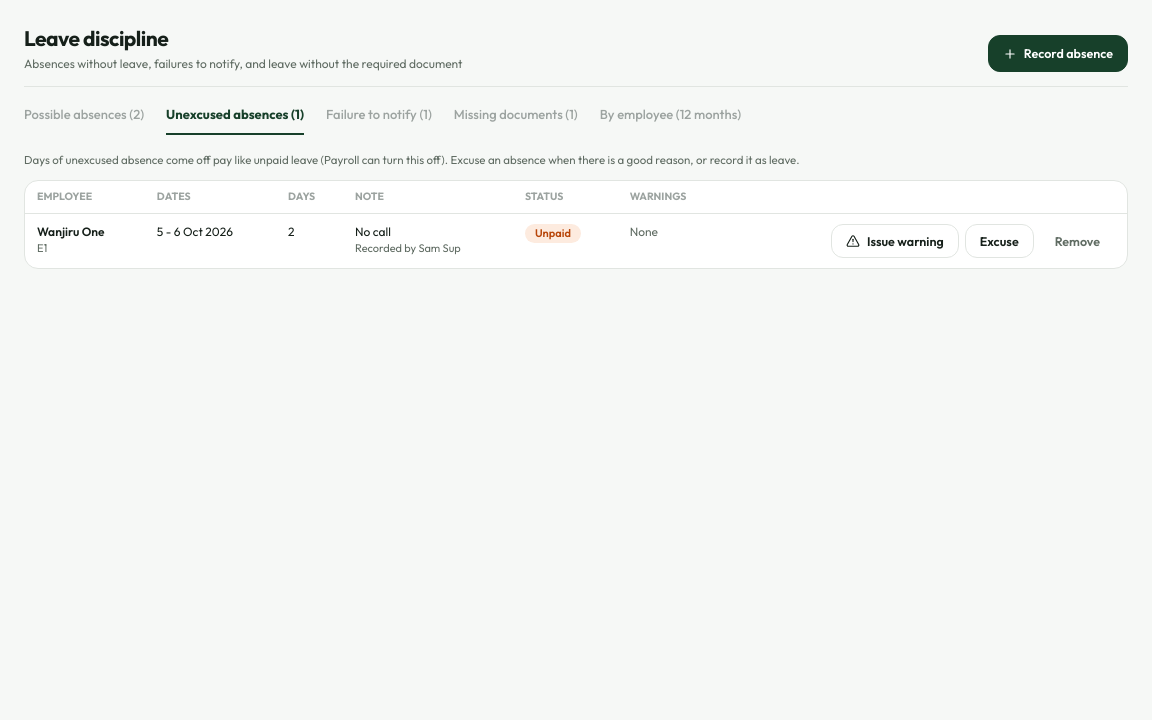
Possible absences › HR switches the employee notice on
The width and height of the screenshot is (1152, 720).
Click the button "Possible absences (2)": x=84, y=120 x1=24 y1=105 x2=144 y2=134
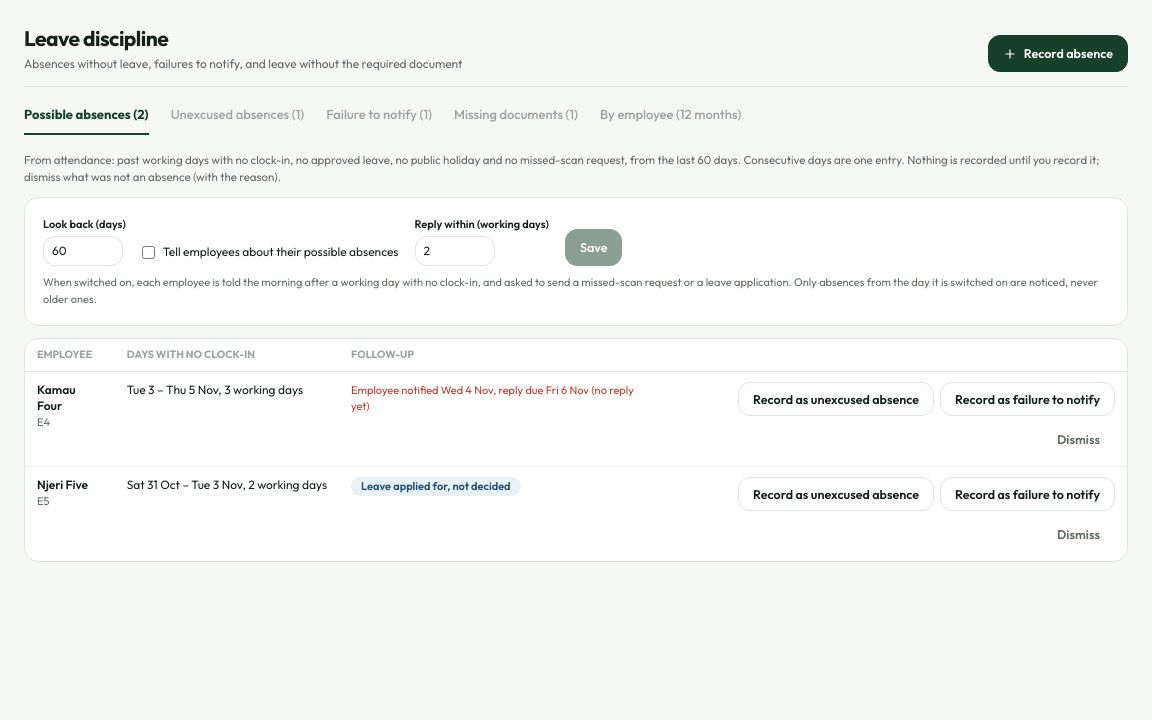
Click the checkbox labelled "Tell employees about their possible absences": x=148, y=252 x1=142 y1=246 x2=155 y2=258
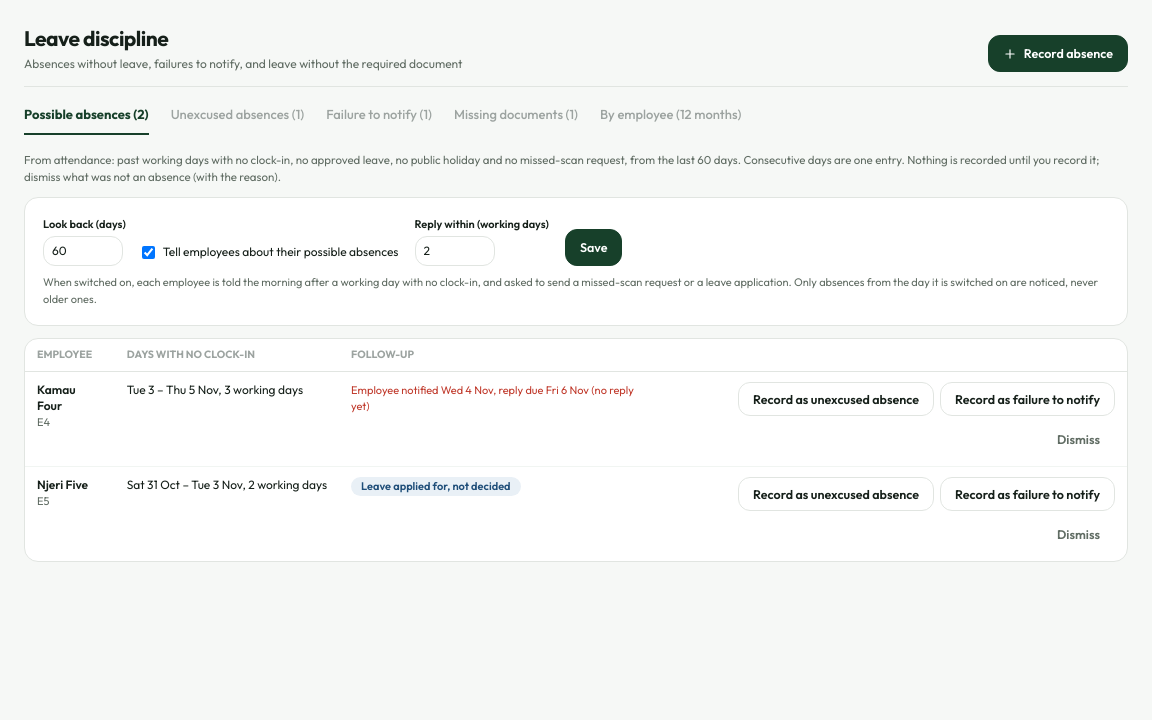
Replace the text in the number field labelled "Reply within (working days)" with "3": x=454, y=251 x1=414 y1=236 x2=494 y2=266
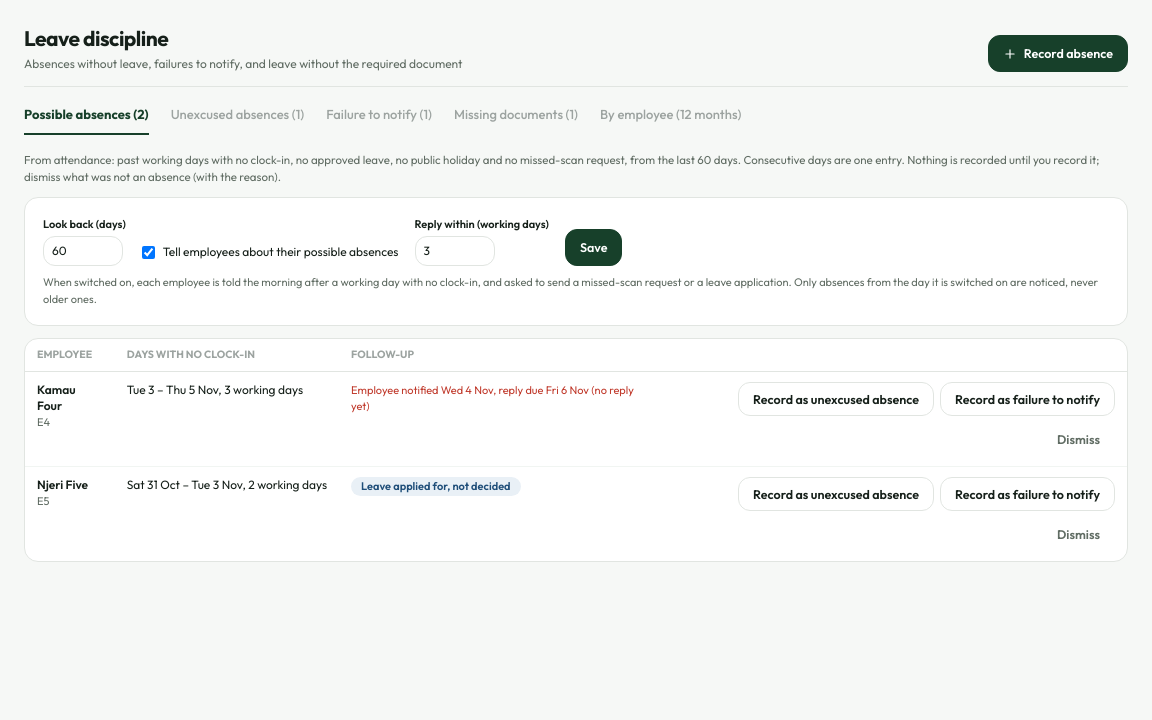
Click the button "Save": x=594, y=248 x1=565 y1=229 x2=622 y2=266
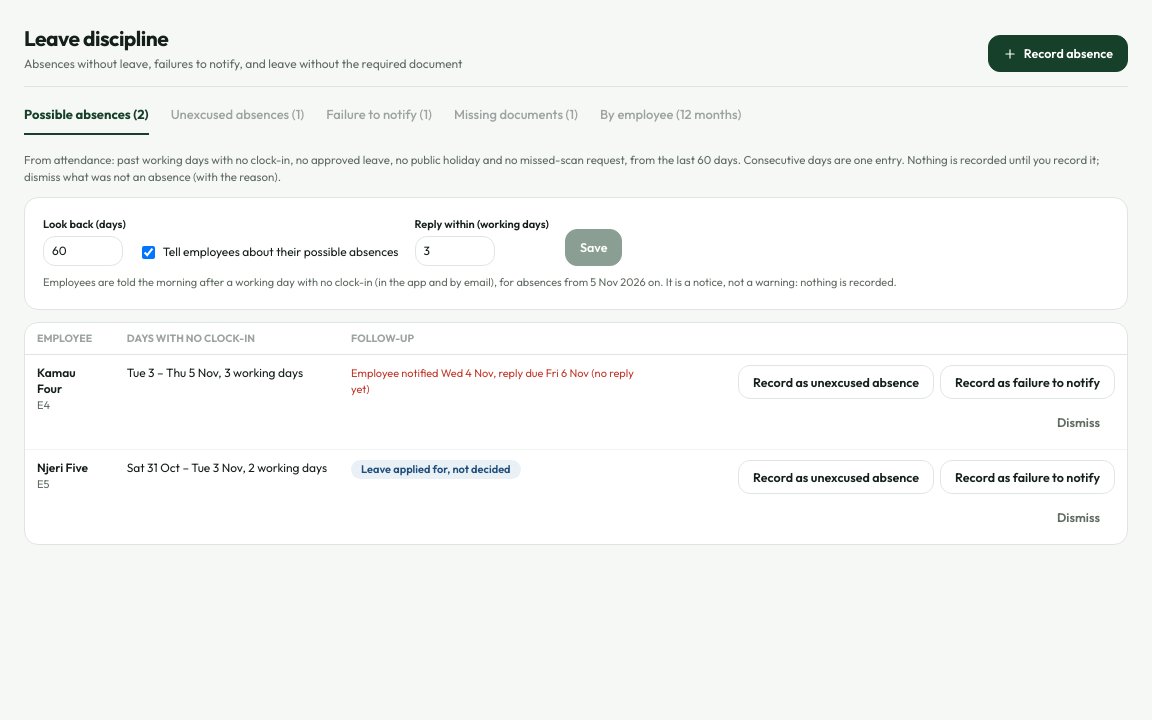
Now the text "for absences from 5 Nov 2026 on" is shown, box x1=43 y1=275 x2=897 y2=289
